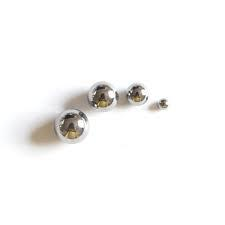steelball: (52, 106, 94, 149), (80, 76, 121, 119), (126, 78, 151, 111), (153, 96, 177, 117)
